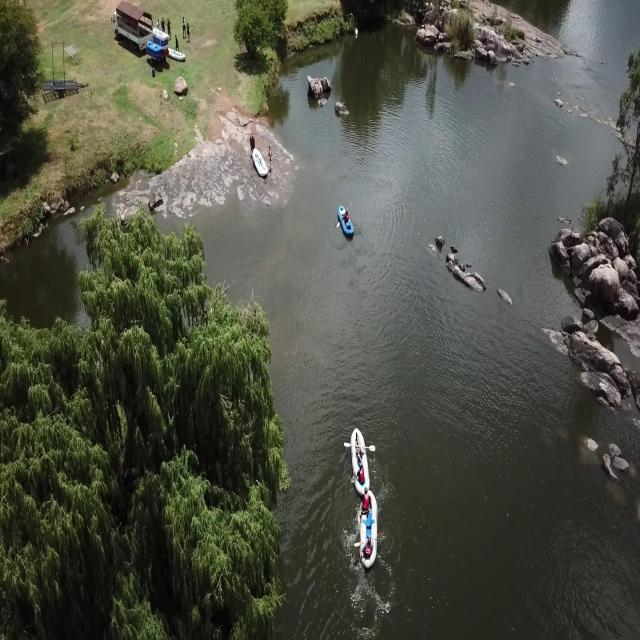kayak: (355, 486, 382, 568), (346, 423, 375, 499), (337, 204, 356, 242)
